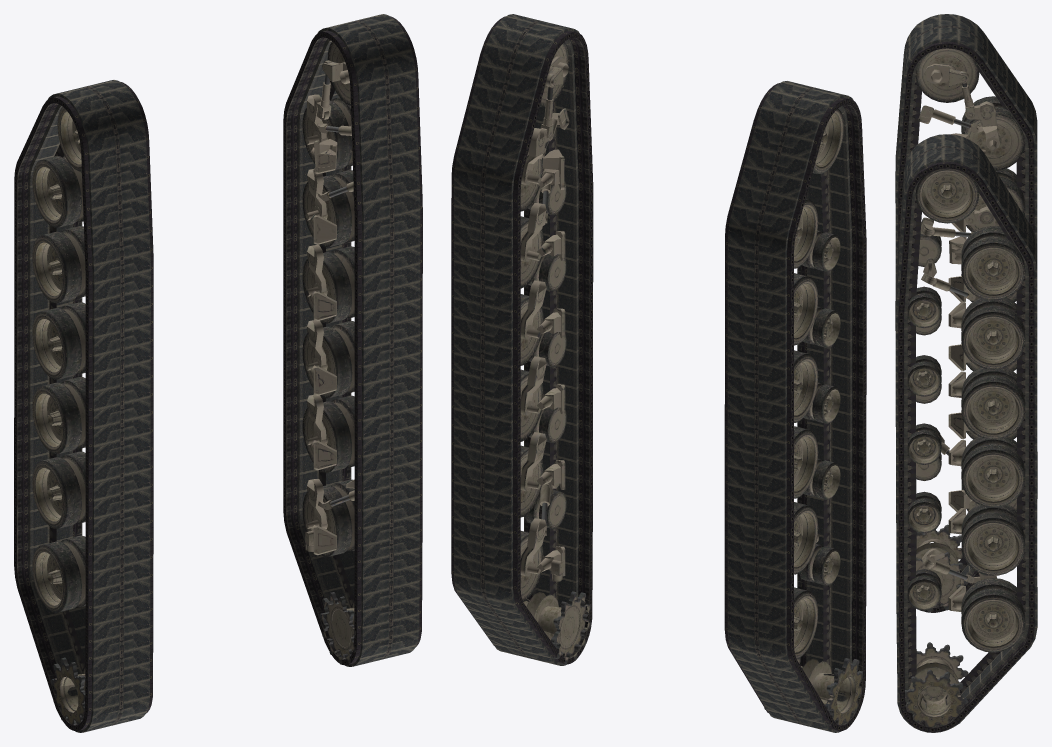
The model's file is Chassis.glb.
3 views of the same model, side by side, from view 1: azimuth 30°, elevation 25°; view 2: azimuth 150°, elevation 25°; view 3: azimuth 270°, elevation 25° (orthographic). The views are drawn at different scales.
Parts seen in each view (by area): view 1: set_0_group_0, set_1_group_0, set_2_group_0, set_3_group_0; view 2: set_0_group_0, set_1_group_0, set_2_group_0, set_3_group_0; view 3: set_2_group_0, set_1_group_0, set_3_group_0, set_0_group_0.
Boxes of the visible parts, left/top/right/bottom form: set_0_group_0: left=14, top=80, right=153, bottom=732; set_1_group_0: left=283, top=14, right=422, bottom=666; set_2_group_0: left=302, top=41, right=355, bottom=664; set_3_group_0: left=32, top=106, right=85, bottom=724; set_0_group_0: left=724, top=81, right=866, bottom=732; set_1_group_0: left=451, top=14, right=593, bottom=665; set_2_group_0: left=491, top=42, right=591, bottom=665; set_3_group_0: left=764, top=109, right=862, bottom=731; set_2_group_0: left=905, top=168, right=1025, bottom=729; set_1_group_0: left=895, top=134, right=1037, bottom=732; set_3_group_0: left=915, top=48, right=1025, bottom=612; set_0_group_0: left=895, top=14, right=1037, bottom=612.
Bounding box in the file's own units: 3.64 × 6.53 × 1.47.
4 materials, 4 textured.
